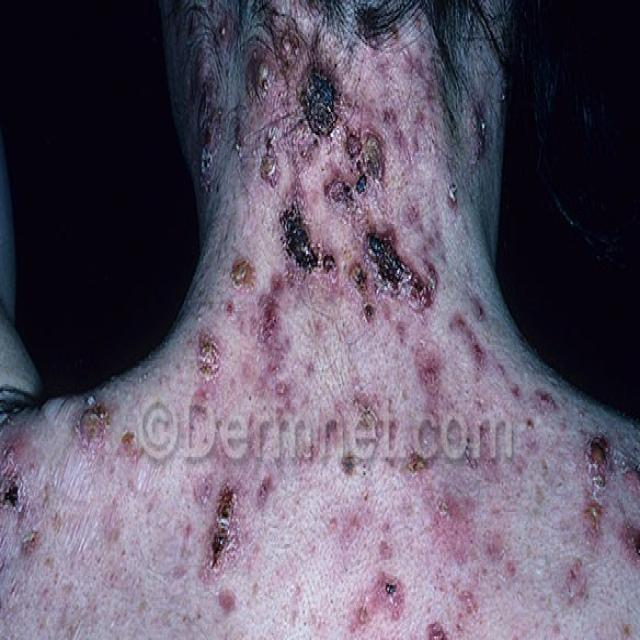Acne: (190, 32, 265, 172), (582, 420, 640, 590), (269, 26, 348, 148), (436, 6, 489, 175), (451, 267, 505, 392), (259, 184, 328, 281), (298, 28, 345, 166), (200, 459, 247, 591), (360, 220, 422, 310), (361, 516, 417, 614), (349, 101, 397, 199), (79, 385, 138, 458), (327, 346, 367, 444), (259, 263, 291, 384), (201, 322, 244, 412), (439, 482, 475, 581), (185, 332, 231, 395), (0, 450, 34, 528), (532, 378, 564, 448), (413, 611, 470, 640), (222, 241, 254, 289), (412, 109, 436, 170), (225, 249, 256, 294), (114, 423, 141, 463), (0, 583, 9, 629)
